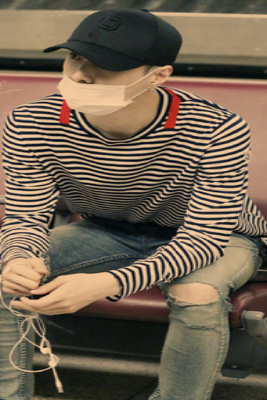mask_weared_incorrect: (62, 52, 143, 115)
